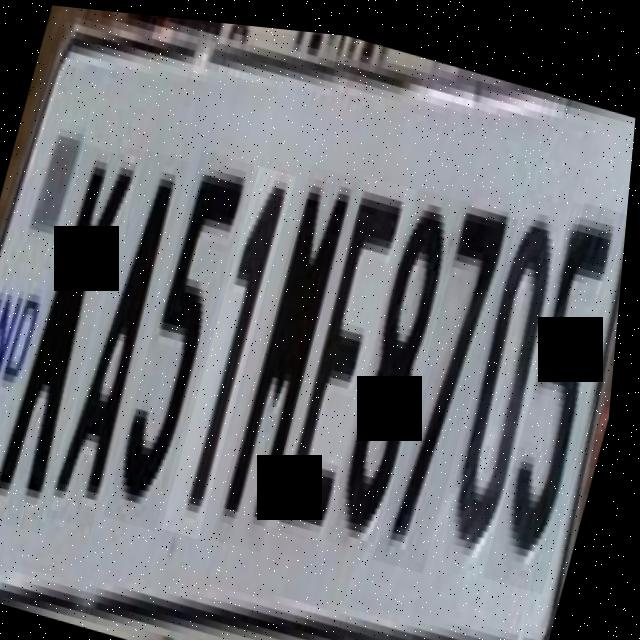0: (438, 185, 583, 575)
1: (170, 155, 299, 540)
5: (111, 140, 257, 534), (498, 194, 628, 567)
7: (381, 190, 522, 570)
8: (332, 173, 469, 549)
A: (55, 140, 193, 531)
E: (279, 163, 418, 539)
K: (0, 137, 141, 536)
M: (220, 152, 364, 551)
